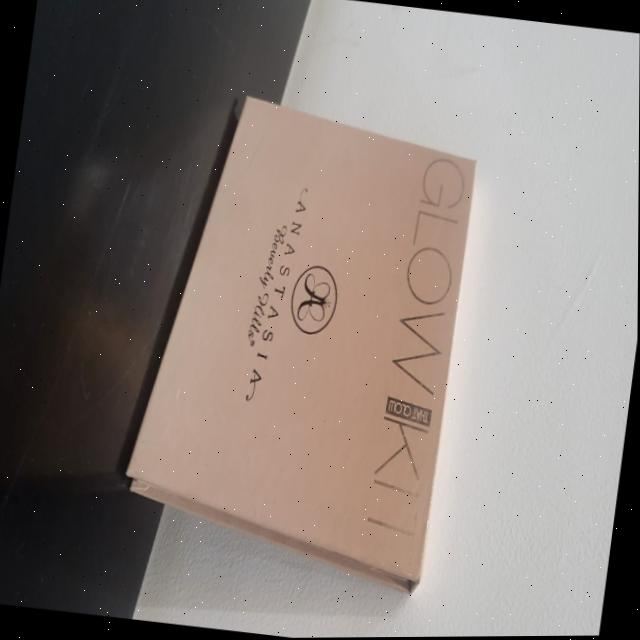makeup: (101, 69, 499, 613)
